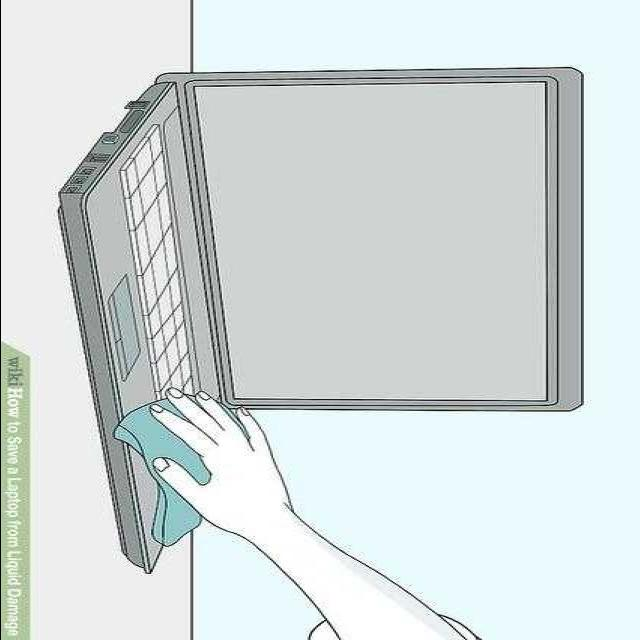laptop: (102, 78, 572, 420)
